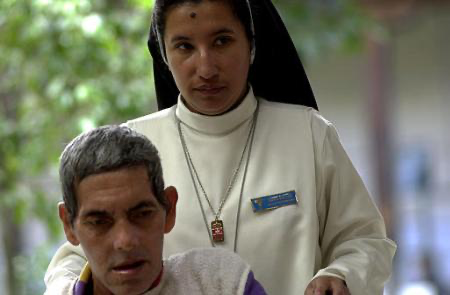Face: (74, 167, 174, 286), (163, 4, 249, 119)
